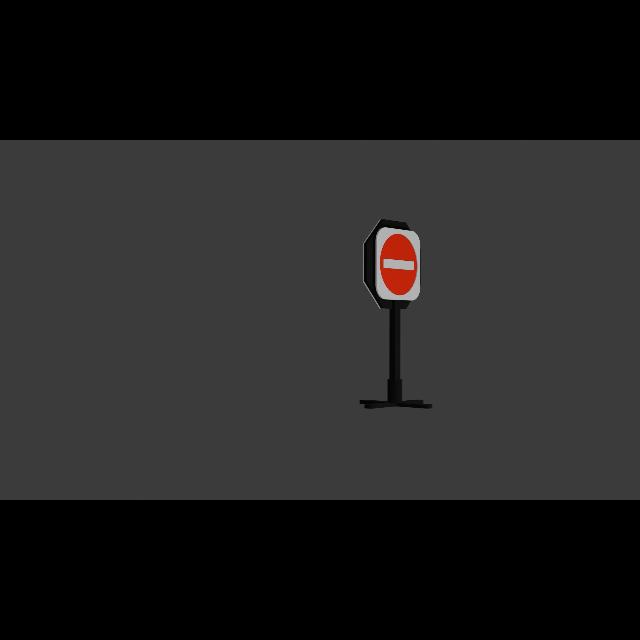sign_noentry: (379, 232, 420, 299)
